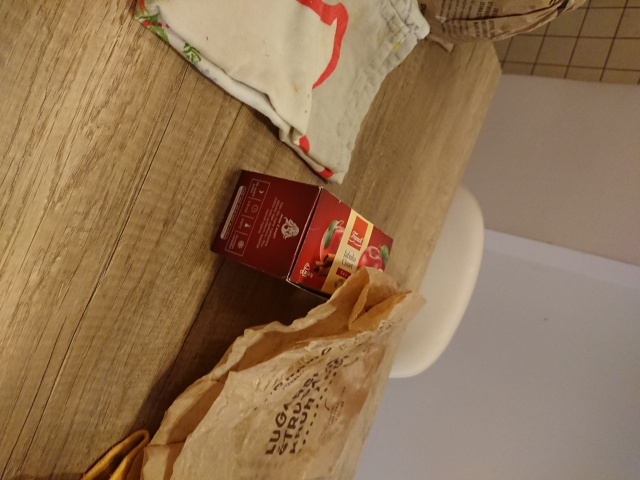Franck Apple Cinnamon Tea 60g: (206, 166, 397, 316)
